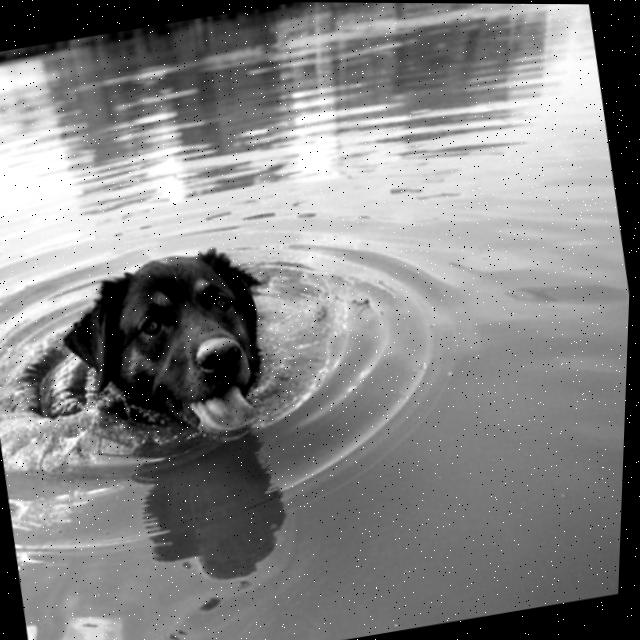dog: (7, 224, 306, 480)
